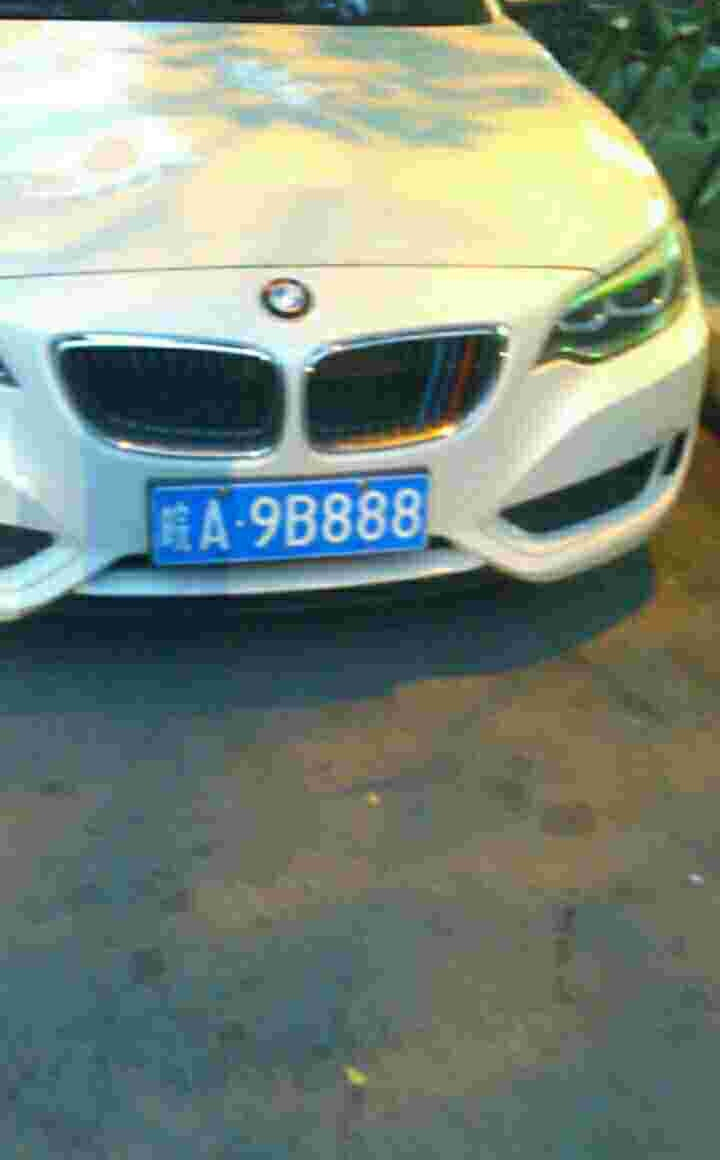license_plate: (141, 484, 428, 569)
